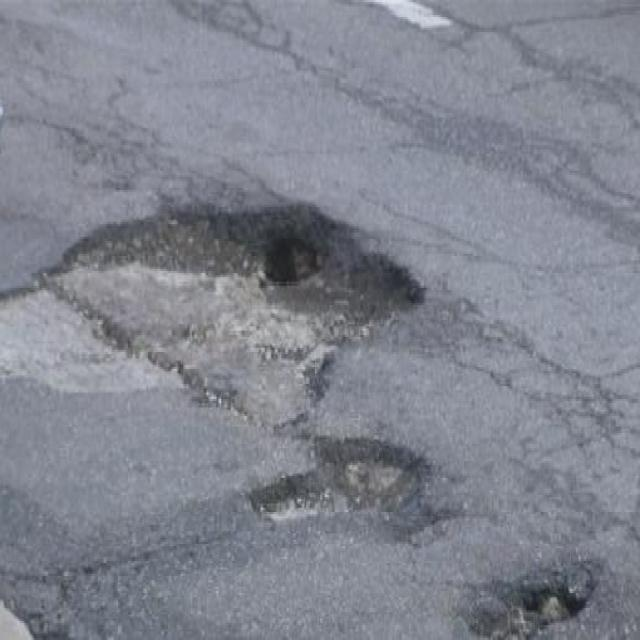pothole: (37, 194, 430, 427), (248, 429, 442, 525), (455, 552, 605, 636)
